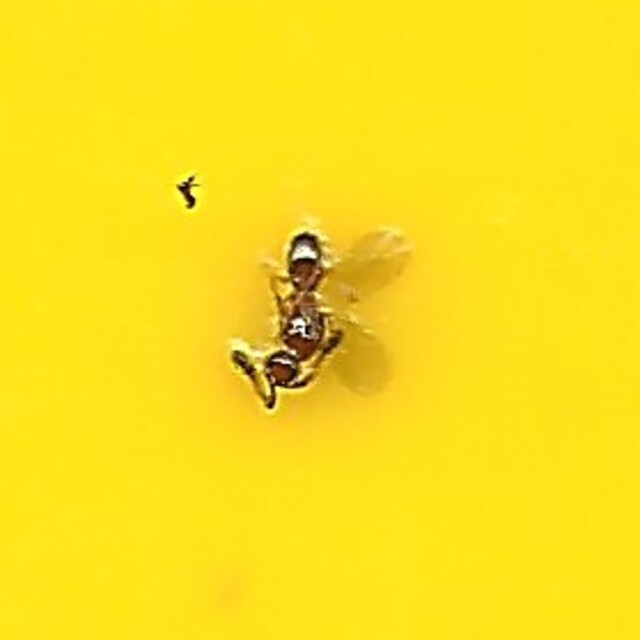Hymenoptera: (229, 225, 411, 415)
